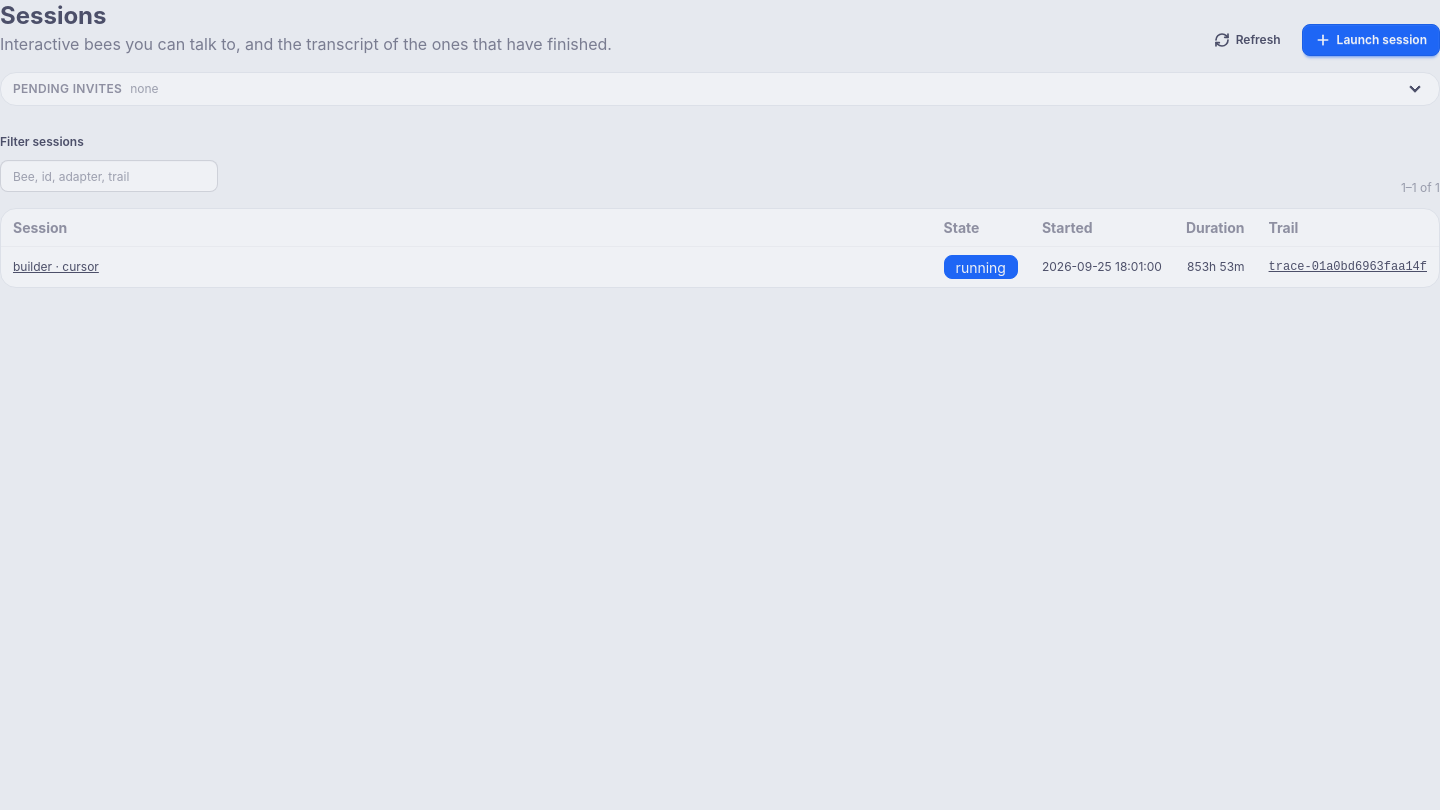
Test: sessions list › opens the launch form on a bee whose intents are null, rather than crashing on them
Expected: the element labelled "sessions" is shown, 0,122 -> 1439,288
Click the button "Launch session" at {"x": 1371, "y": 40}, box 1302,24 -> 1439,56
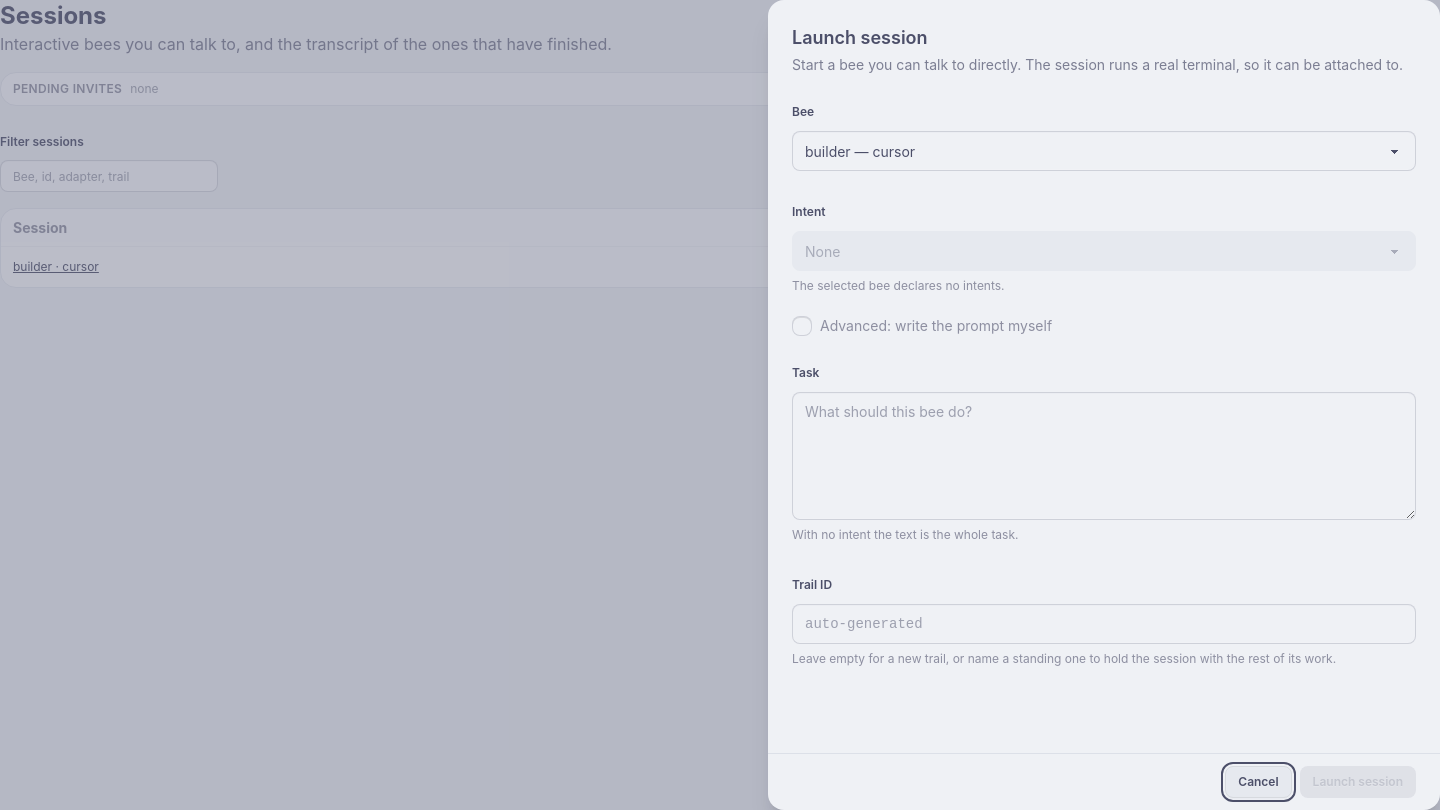
Now the dropdown labelled "Bee" is shown, box 792,131 -> 1416,171
Now the text "The selected bee declares no intents." is shown, box 792,278 -> 1005,293
Now the button "Launch session" is disabled, box 1300,766 -> 1416,798
